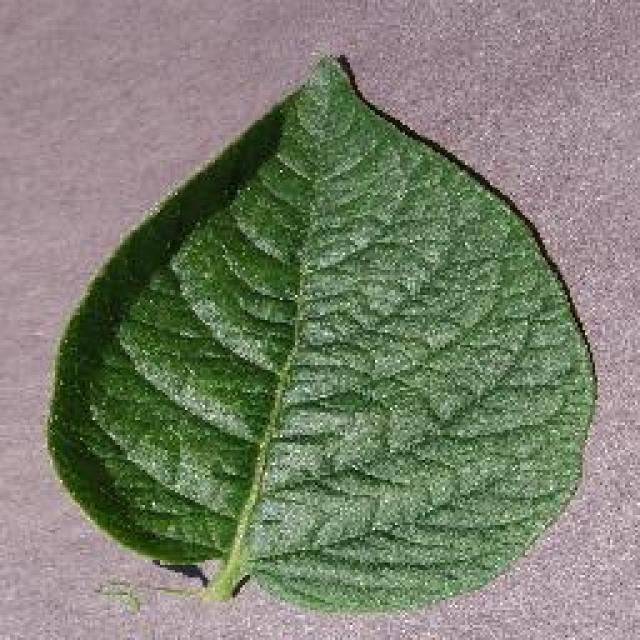Potato___healthy: (46, 50, 602, 613)
